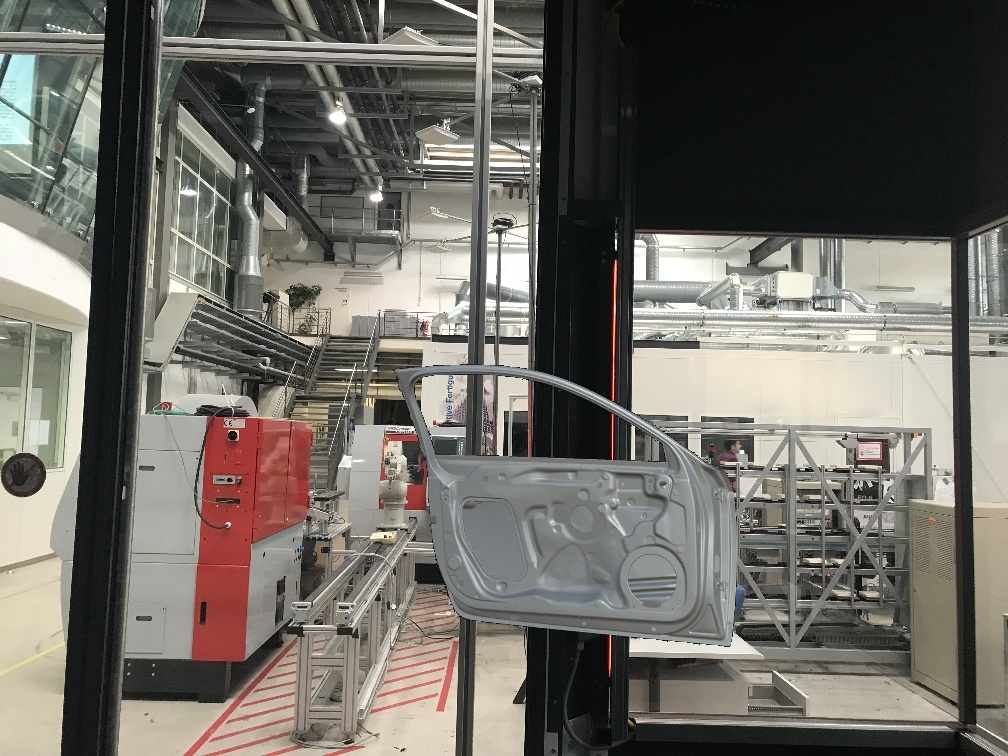car_door: (393, 364, 736, 646)
